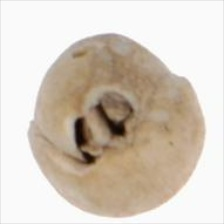L3: (71, 87, 138, 171)
L4: (28, 32, 205, 218)
